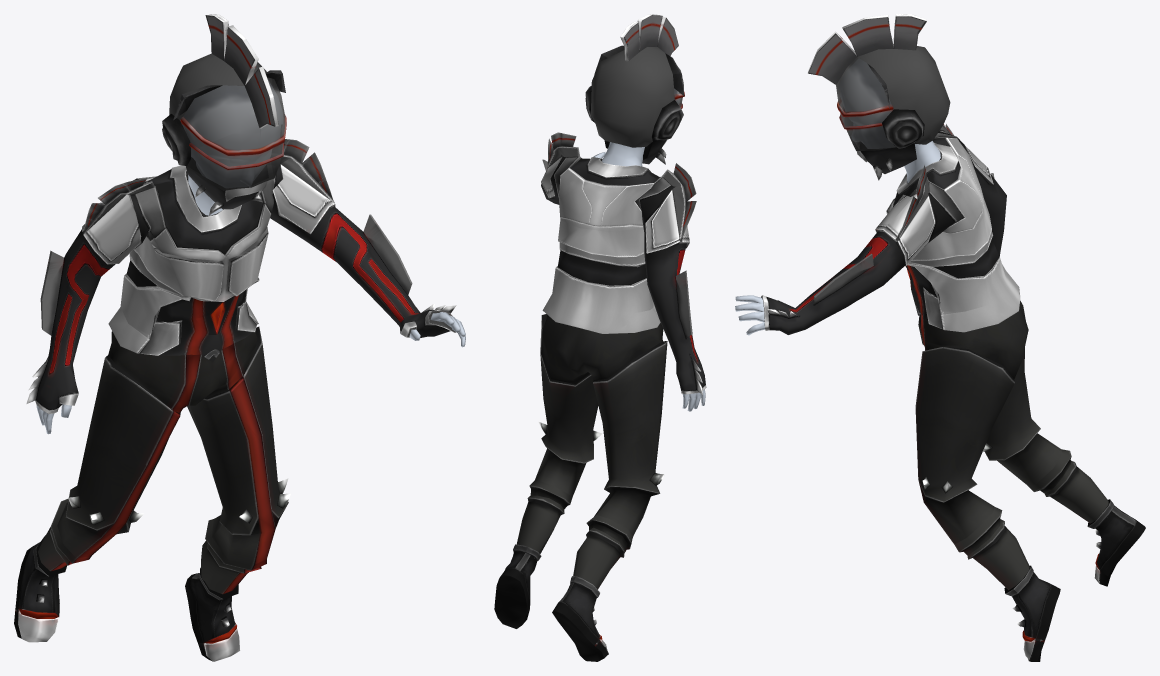
The model's file is F_orion_pose.gltf.
3 views of the same model, side by side, from view 1: azimuth 30°, elevation 25°; view 2: azimuth 150°, elevation 25°; view 3: azimuth 270°, elevation 25° (orthographic). The views are drawn at different scales.
Parts seen in each view (by area): view 1: F_UPPERBODY., F_LOWERBODY, F_HAT, F_FEET, M_head.003, F_uBody_BaseMesh.001; view 2: F_UPPERBODY., F_LOWERBODY, F_HAT, F_FEET, M_head.003, F_uBody_BaseMesh.001; view 3: F_LOWERBODY, F_UPPERBODY., F_HAT, F_FEET, M_head.003, F_uBody_BaseMesh.001.
Part boxes in pixels (left/top/right/bottom): F_UPPERBODY.: left=26, top=139, right=456, bottom=414; F_LOWERBODY: left=38, top=326, right=290, bottom=594; F_HAT: left=162, top=14, right=286, bottom=215; F_FEET: left=14, top=535, right=240, bottom=661; M_head.003: left=188, top=124, right=280, bottom=215; F_uBody_BaseMesh.001: left=36, top=312, right=465, bottom=434; F_UPPERBODY.: left=541, top=132, right=706, bottom=394; F_LOWERBODY: left=516, top=314, right=667, bottom=589; F_HAT: left=585, top=14, right=684, bottom=164; F_FEET: left=494, top=544, right=608, bottom=661; M_head.003: left=602, top=142, right=644, bottom=166; F_uBody_BaseMesh.001: left=593, top=152, right=705, bottom=411; F_LOWERBODY: left=915, top=301, right=1108, bottom=590; F_UPPERBODY.: left=761, top=124, right=1020, bottom=334; F_HAT: left=807, top=14, right=950, bottom=180; F_FEET: left=1004, top=499, right=1145, bottom=661; M_head.003: left=841, top=93, right=940, bottom=182; F_uBody_BaseMesh.001: left=735, top=295, right=765, bottom=335.
Bounding box in the file's own units: 1.76 × 4 × 2.43.
4 materials, 2 textured.
